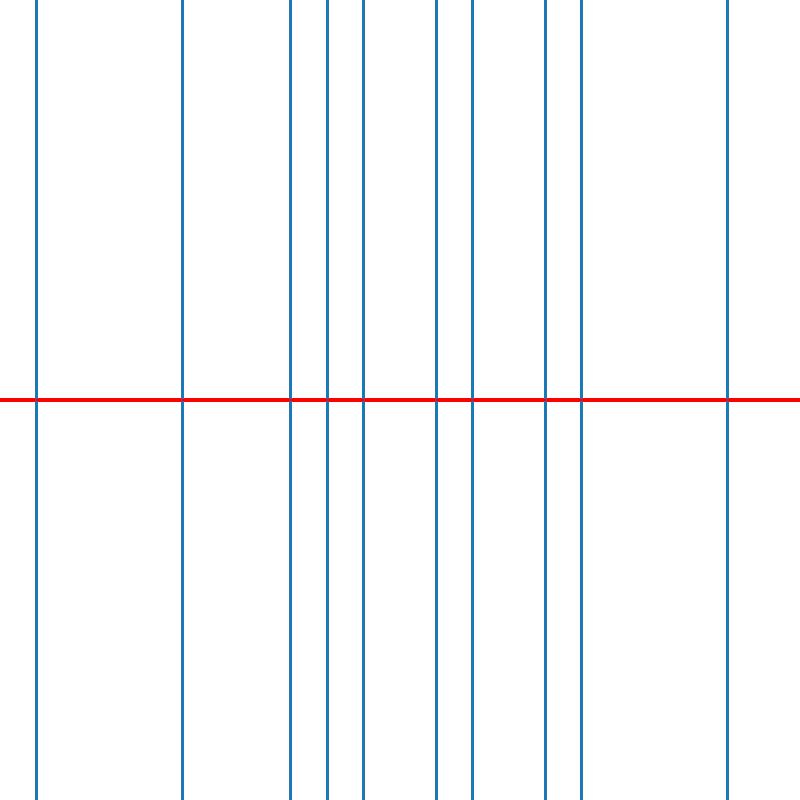root: (32, 396, 40, 404), (541, 396, 549, 404), (432, 396, 440, 404), (323, 396, 330, 404), (469, 396, 476, 404), (360, 396, 367, 404), (178, 396, 185, 404), (287, 396, 294, 404), (578, 396, 585, 404), (723, 396, 730, 404)
